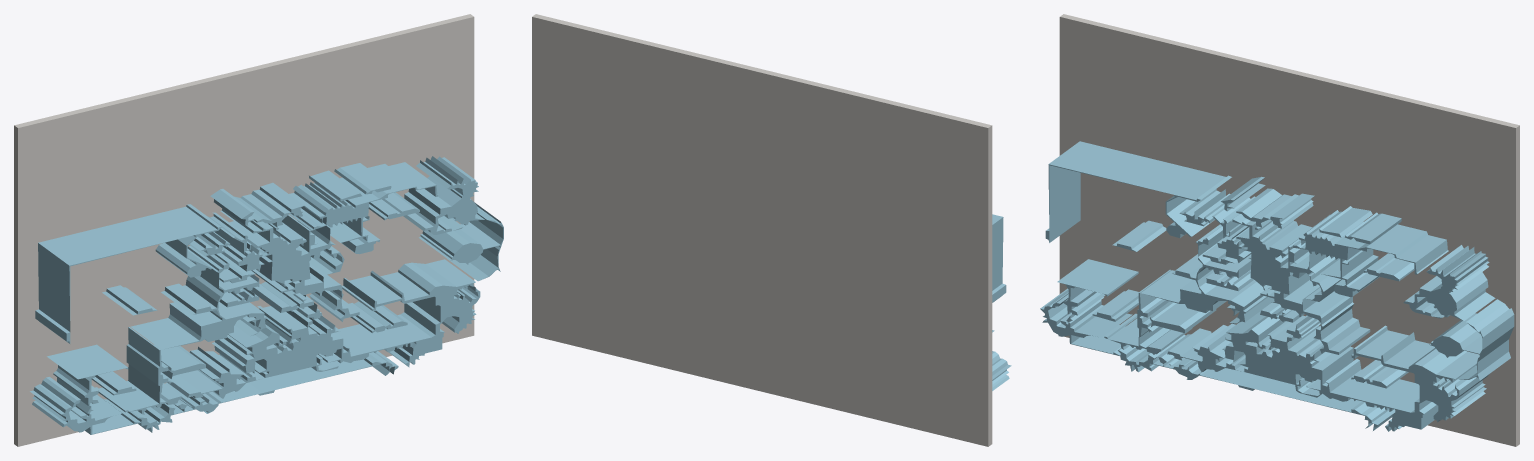
The picture shows the model from 3 angles, left to right: view 1: azimuth 30°, elevation 25°; view 2: azimuth 150°, elevation 25°; view 3: azimuth 330°, elevation 25°; orthographic projection.
Parts seen in each view (by area): view 1: world; view 2: world; view 3: world.
Boxes of the visible parts, left/top/right/bottom form: world: left=14, top=14, right=503, bottom=446; world: left=532, top=14, right=1011, bottom=446; world: left=1040, top=14, right=1519, bottom=446.
Size of the model in its own units: 10.23 by 6.83 by 1.37.
